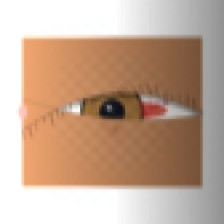hemorrhage_spot: (99, 79, 178, 142)
